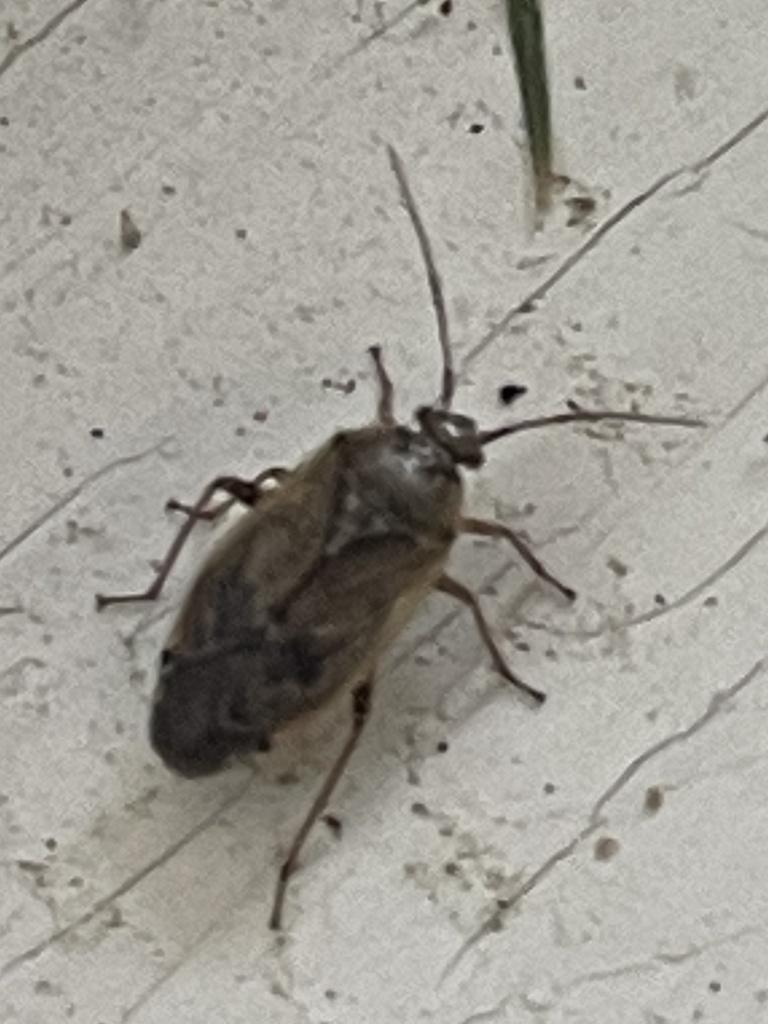plant_bugs: (0, 22, 768, 994)
